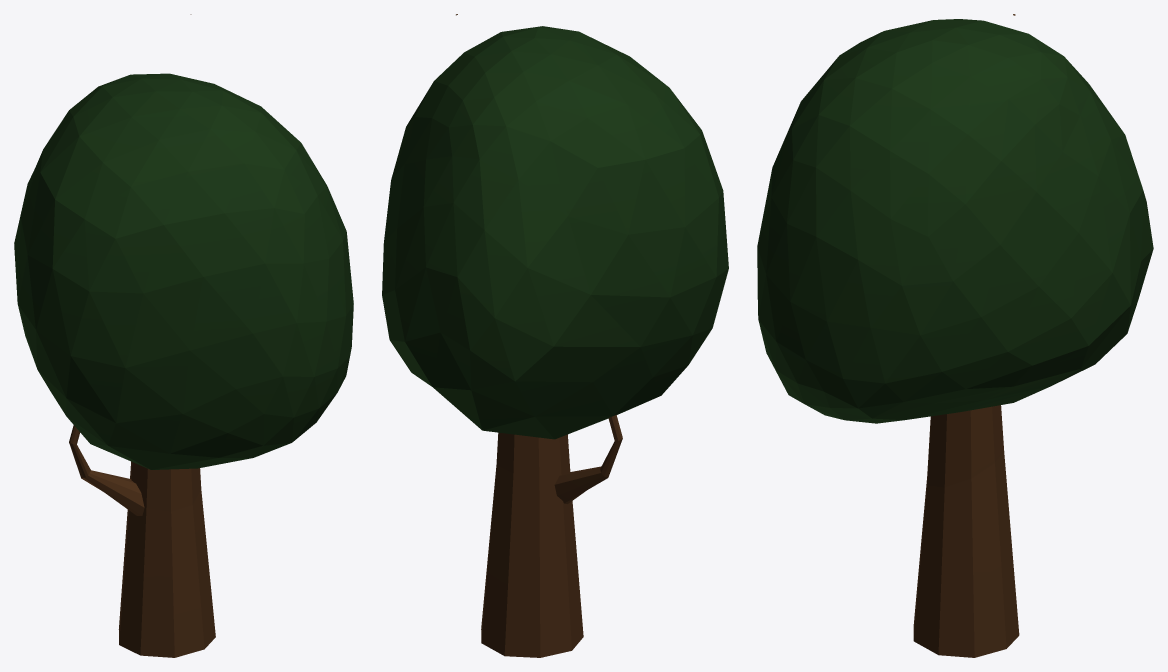
File: Tree2.fbx
3 renders of one model, left to right at view 1: azimuth 30°, elevation 25°; view 2: azimuth 150°, elevation 25°; view 3: azimuth 270°, elevation 25°, orthographic. The views are drawn at different scales.
Visible parts, largest first — view 1: Icosphere; view 2: Icosphere; view 3: Icosphere.
Boxes of the visible parts, x1,y1,x2,y2 form: Icosphere: (14, 14, 353, 657); Icosphere: (382, 14, 728, 657); Icosphere: (757, 14, 1153, 657).
Size of the model in its own units: 807 by 1556 by 865.
